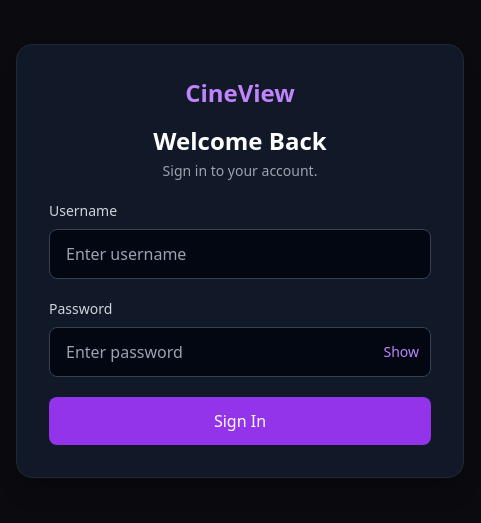
Test: Milestone 2 authentication › shows validation errors for short fields
The width and height of the screenshot is (481, 523).
Step 1. Type "ab" into the field labelled "Username" → (240, 254), box x1=49 y1=229 x2=431 y2=279
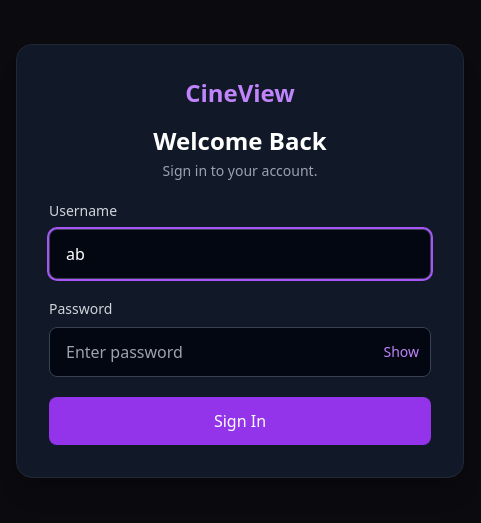
Step 2. Type "1234" into the password field labelled "Password" → (240, 352), box x1=49 y1=327 x2=431 y2=377
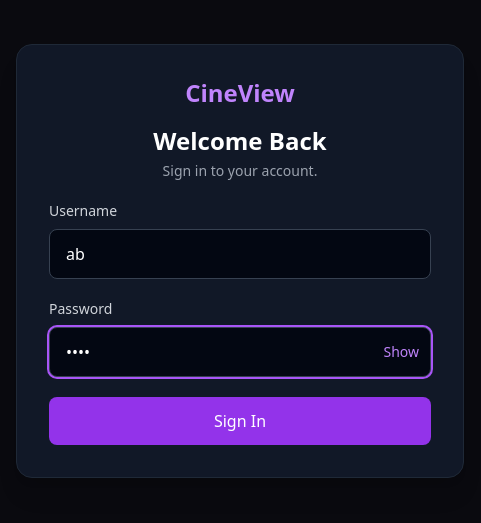
Step 3. Click the button "Sign In" → (240, 421), box x1=49 y1=397 x2=431 y2=445
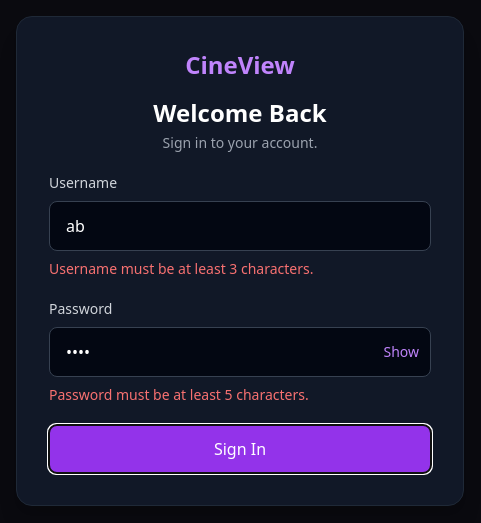
Result: the text "Username must be at least 3 characters." is shown at x1=49 y1=259 x2=314 y2=278
Result: the text "Password must be at least 5 characters." is shown at x1=49 y1=385 x2=309 y2=404
